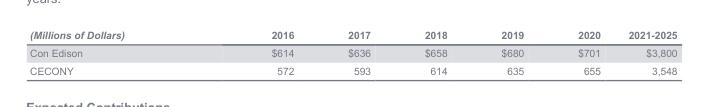table: (29, 29, 676, 76)
table column: (29, 29, 197, 76), (197, 29, 320, 76), (396, 29, 473, 76), (473, 29, 550, 76), (320, 29, 396, 76), (550, 29, 613, 76), (613, 29, 676, 76)
table column header: (29, 29, 676, 43)
table row: (29, 43, 676, 61), (29, 61, 676, 76), (29, 29, 676, 43)
